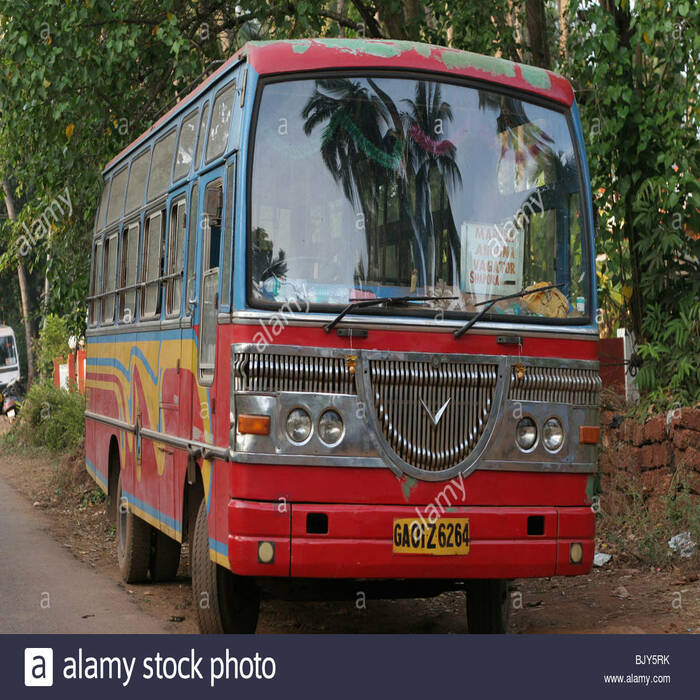n: (392, 516, 471, 559)
